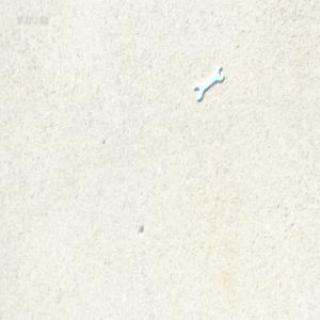Wrenchtrack_idkeyframe: (194, 65, 222, 100)
